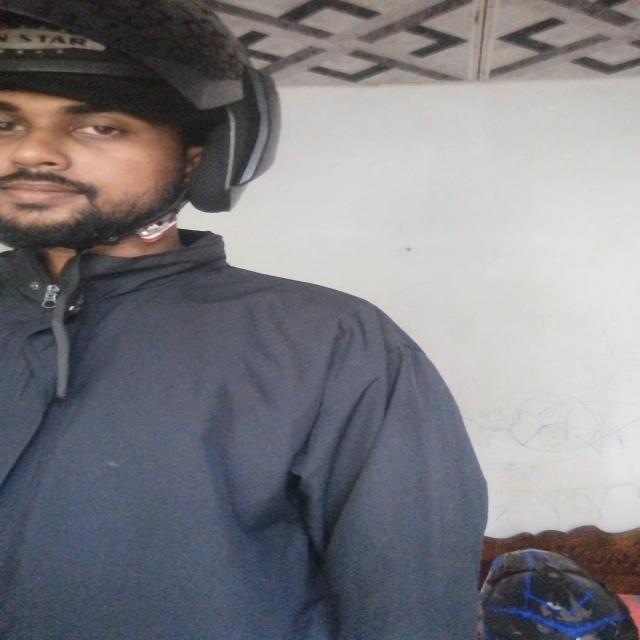Helmet_Wearer: (0, 0, 281, 239)
Jacket_Wearer: (3, 233, 492, 640)
Person: (1, 0, 498, 640)
